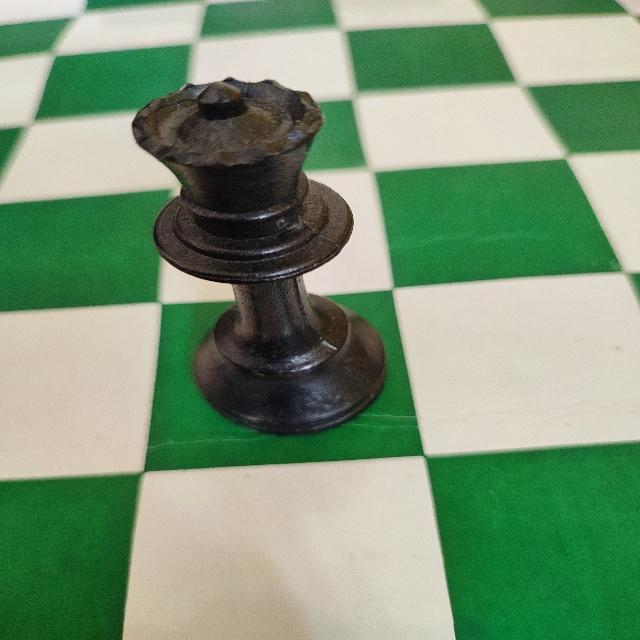Queen: (124, 74, 388, 437)
